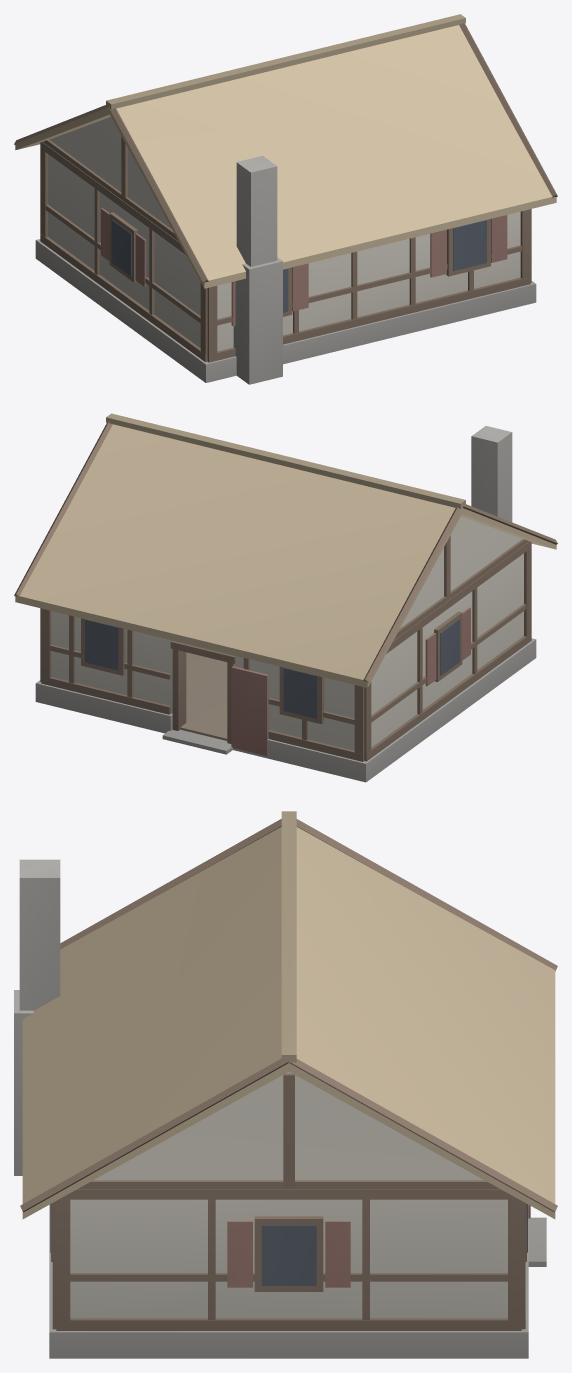
File: open_house_amber.gltf
The picture shows the model from 3 angles, top to bottom: view 1: azimuth 30°, elevation 25°; view 2: azimuth 150°, elevation 25°; view 3: azimuth 270°, elevation 25°; orthographic projection. The views are drawn at different scales.
Visible parts, largest first — view 1: Body; view 2: Body; view 3: Body.
Boxes of the visible parts, <box> form: Body: <box>14,14,557,384</box>; Body: <box>14,413,557,782</box>; Body: <box>14,811,557,1358</box>.
Bounding box in the file's own units: 9.97 × 5.94 × 9.39.
